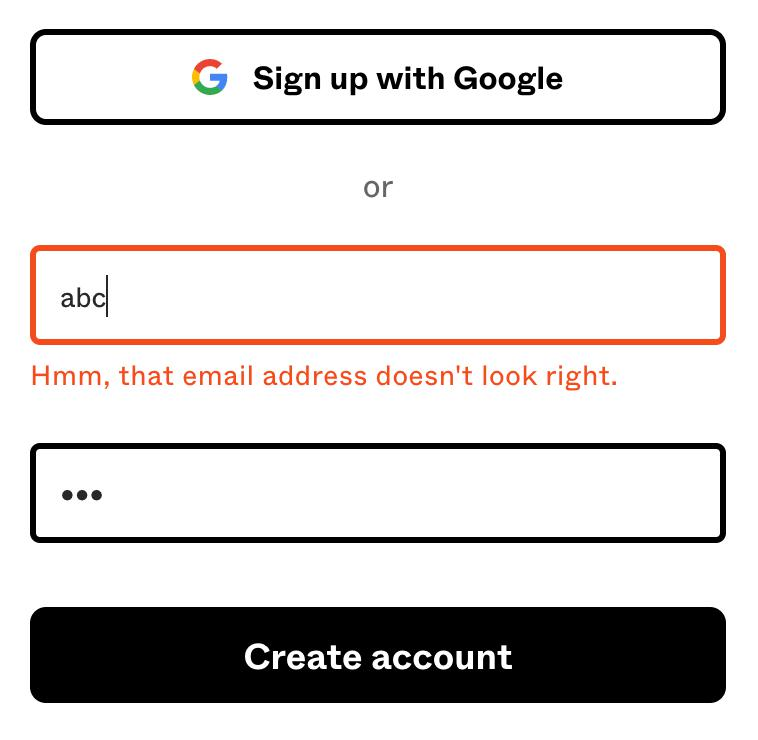error_field: (29, 243, 728, 349)
error_message: (28, 361, 618, 394)
